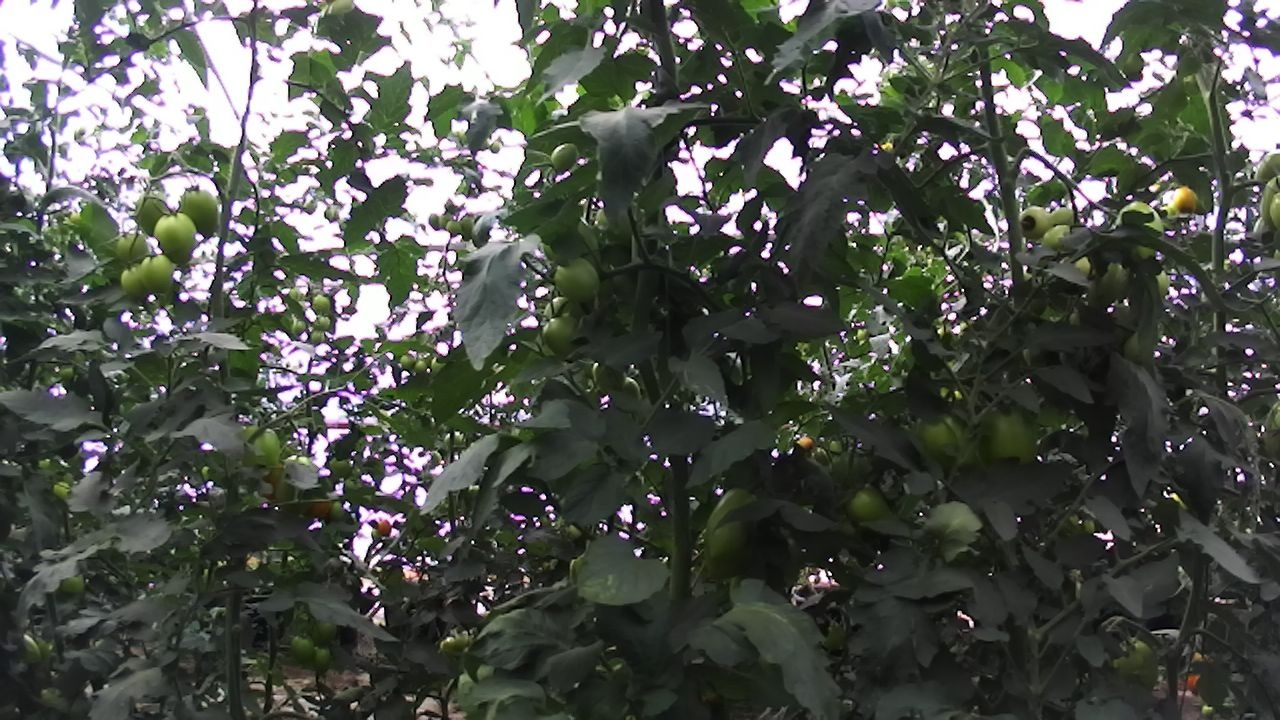tomato: (689, 471, 778, 579), (902, 398, 998, 488), (966, 394, 1054, 480), (833, 474, 909, 545), (1106, 623, 1175, 701), (1109, 188, 1179, 264), (234, 406, 285, 484), (148, 203, 204, 273), (126, 183, 186, 248), (175, 180, 230, 250), (547, 250, 609, 309), (535, 303, 592, 362), (602, 369, 653, 420), (587, 349, 635, 402), (1012, 198, 1062, 248), (134, 248, 181, 298), (538, 136, 587, 182), (109, 225, 153, 271), (116, 257, 159, 304), (304, 610, 345, 652), (1168, 178, 1207, 222), (285, 629, 321, 669), (324, 448, 359, 483), (305, 640, 338, 677), (306, 288, 336, 319), (456, 211, 479, 244), (326, 495, 348, 525), (310, 310, 336, 335), (424, 208, 448, 234), (373, 515, 398, 539), (410, 354, 433, 379), (444, 214, 465, 240), (396, 350, 419, 373), (307, 326, 328, 348)
